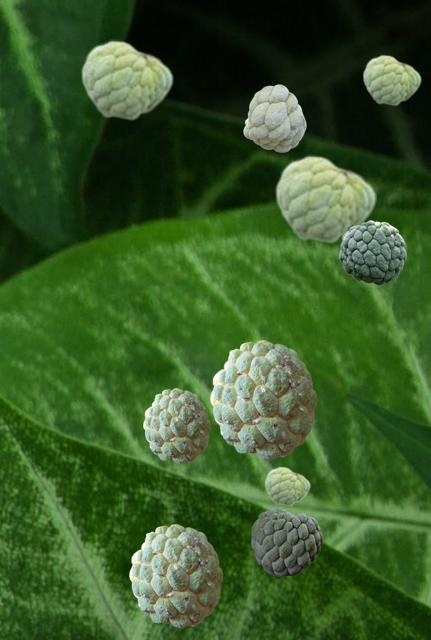atis: (210, 340, 315, 457), (129, 524, 221, 626), (274, 154, 375, 243), (80, 39, 172, 120), (143, 388, 209, 462), (251, 508, 322, 575), (339, 220, 405, 284), (243, 84, 305, 151), (362, 54, 420, 105), (264, 466, 309, 505)
